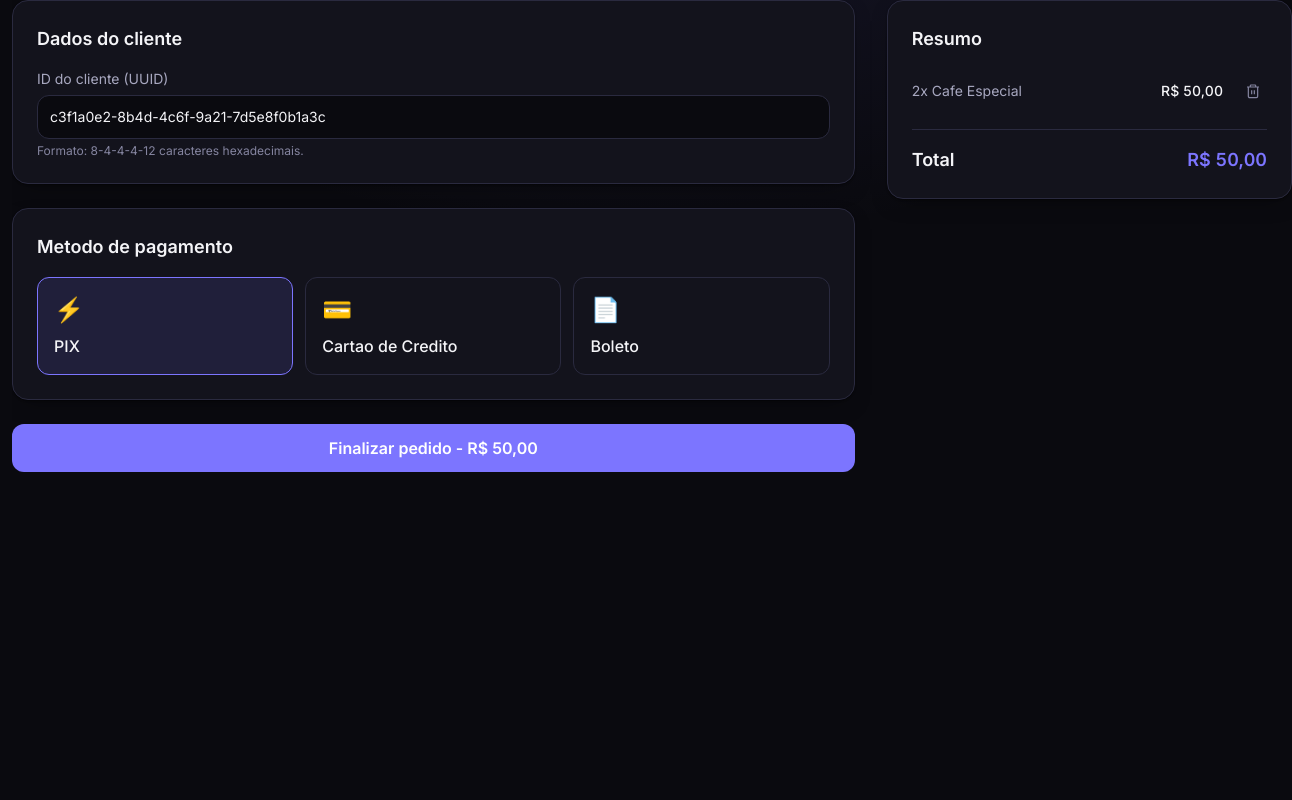
Scenario: CheckoutForm › exibe a mensagem de erro retornada pela API
Replace the text in the field with "11111111-1111-1111-1111-111111111111" at (433, 117), box [37,95,830,139]
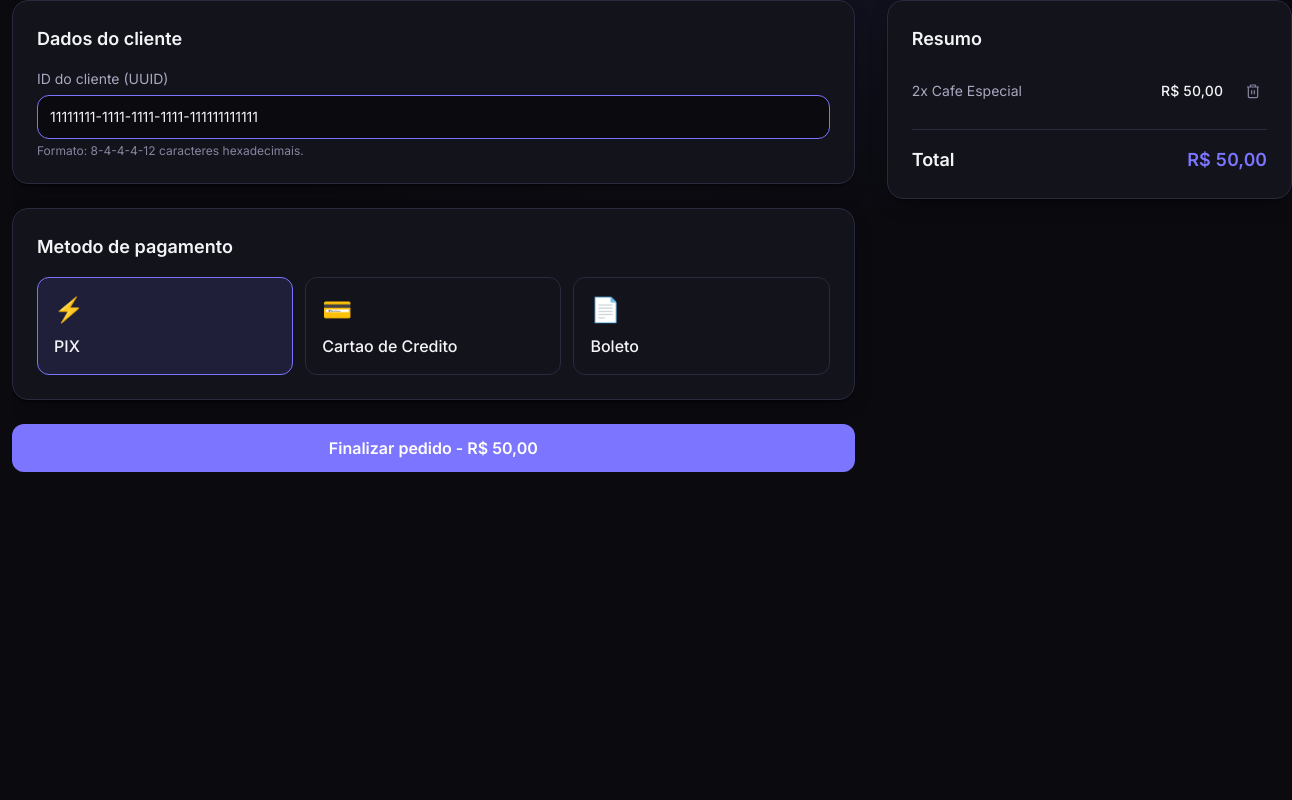
Click the button "Finalizar pedido - R$ 50,00" at (433, 448), box [12,424,855,472]
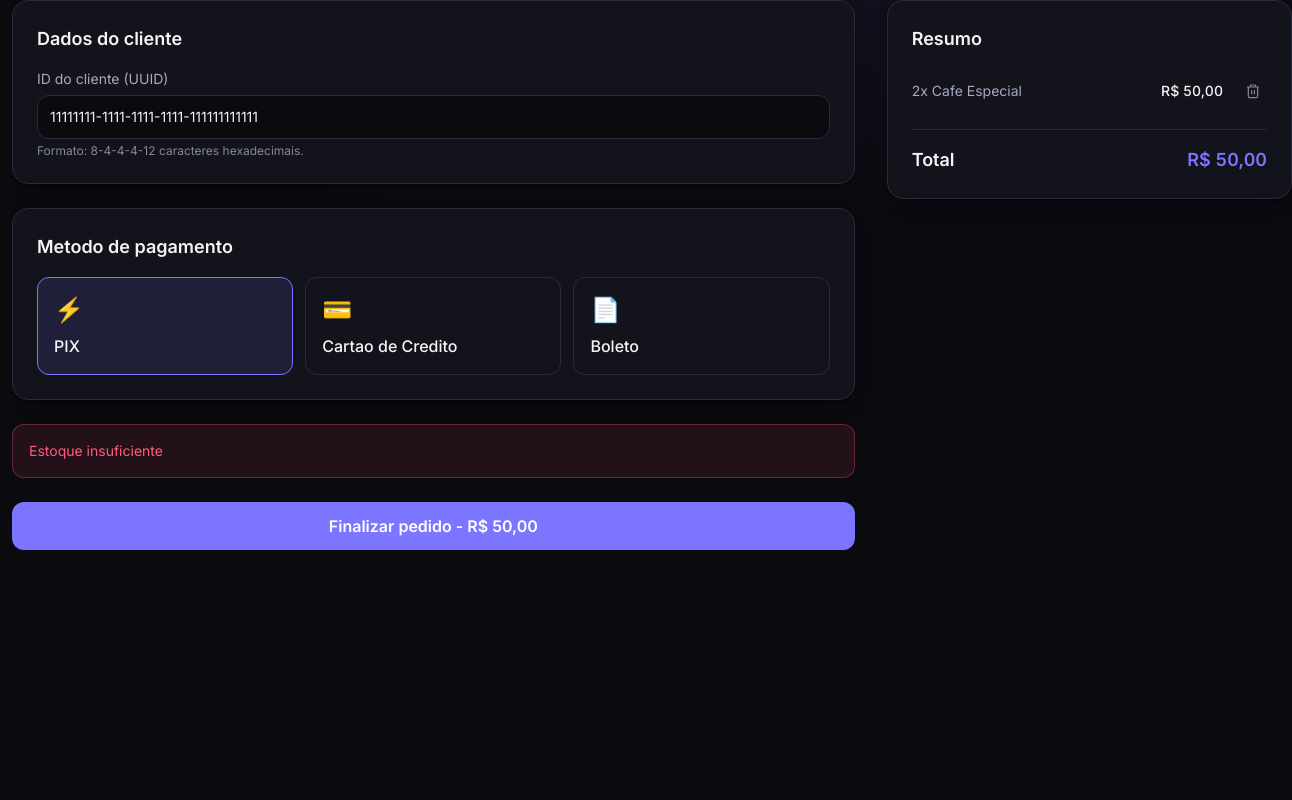
Expected: the message reads "Estoque insuficiente", [29,442,163,459]
